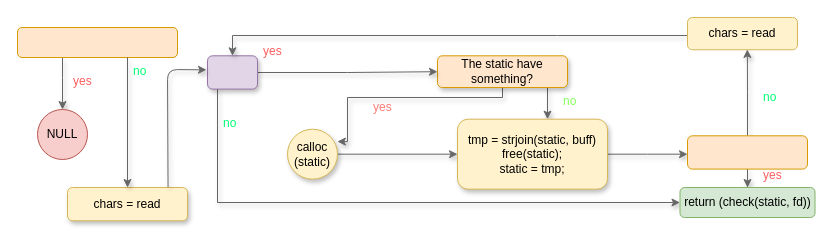
Some shapes in this 833 by 246 pixel diagram are drawn without their labels. The centre of each missing label's shape, as x and y in pixels:
"chars?" goes at pixel 233 73.
"Is the fd < 0 or read = -1 : ?" goes at pixel 97 42.
"There is a '\n' in buff?" goes at pixel 747 152.
